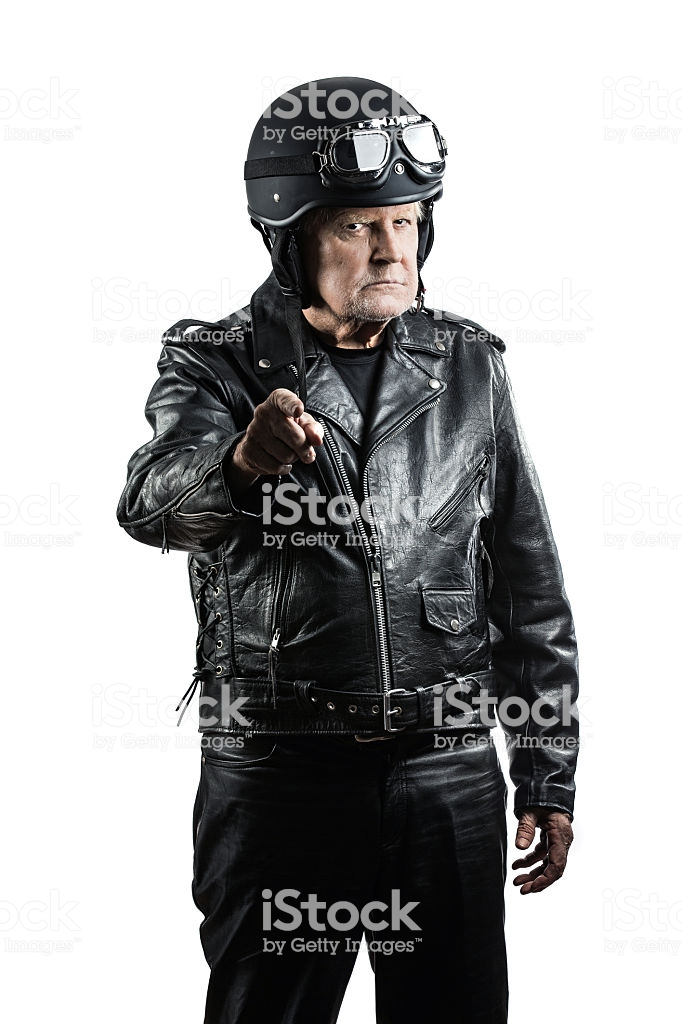helmet: (229, 59, 455, 226)
